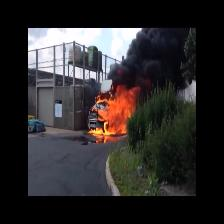fire: (97, 89, 135, 138)
smoke: (136, 31, 178, 85)
